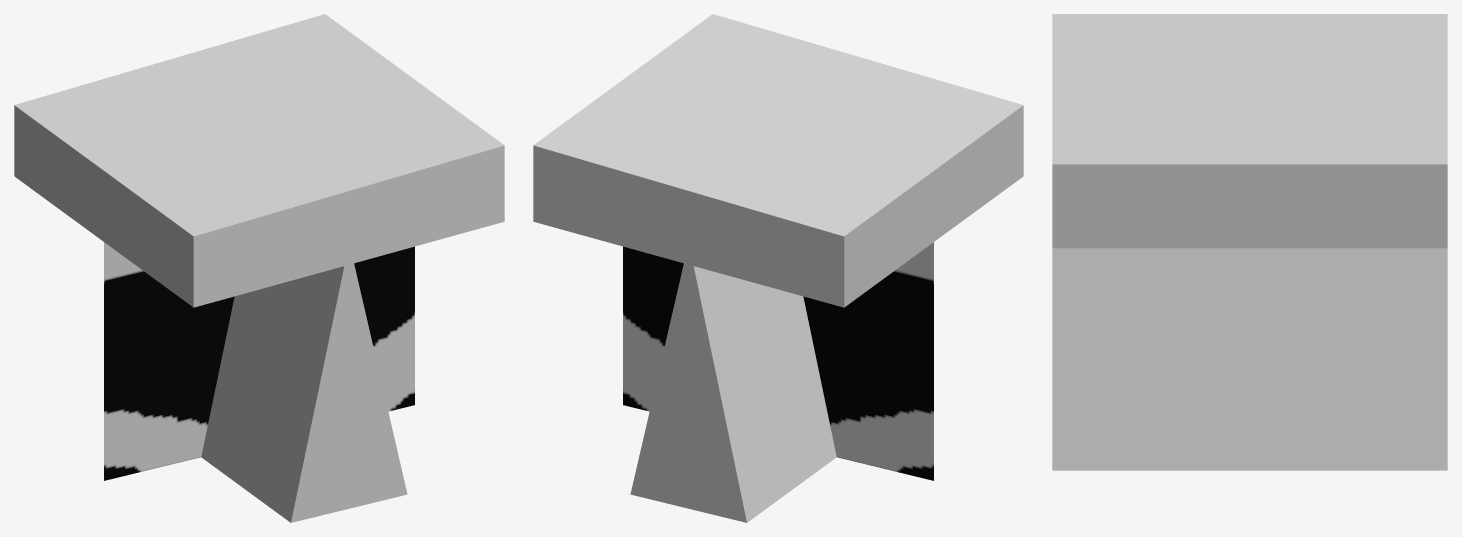
Rendered from dc_metro_roof_e3b.obj.
3 renders of one model, left to right at view 1: azimuth 30°, elevation 25°; view 2: azimuth 150°, elevation 25°; view 3: azimuth 270°, elevation 25°, orthographic. The views are drawn at different scales.
Parts seen in each view (by area): view 1: part3b; view 2: part3b; view 3: part3b.
Part boxes in pixels (left/top/right/bottom): part3b: left=14, top=14, right=504, bottom=522; part3b: left=533, top=14, right=1023, bottom=522; part3b: left=1052, top=14, right=1447, bottom=470.
Size of the model in its own units: 1 by 1 by 1.
2 materials, 2 textured.
